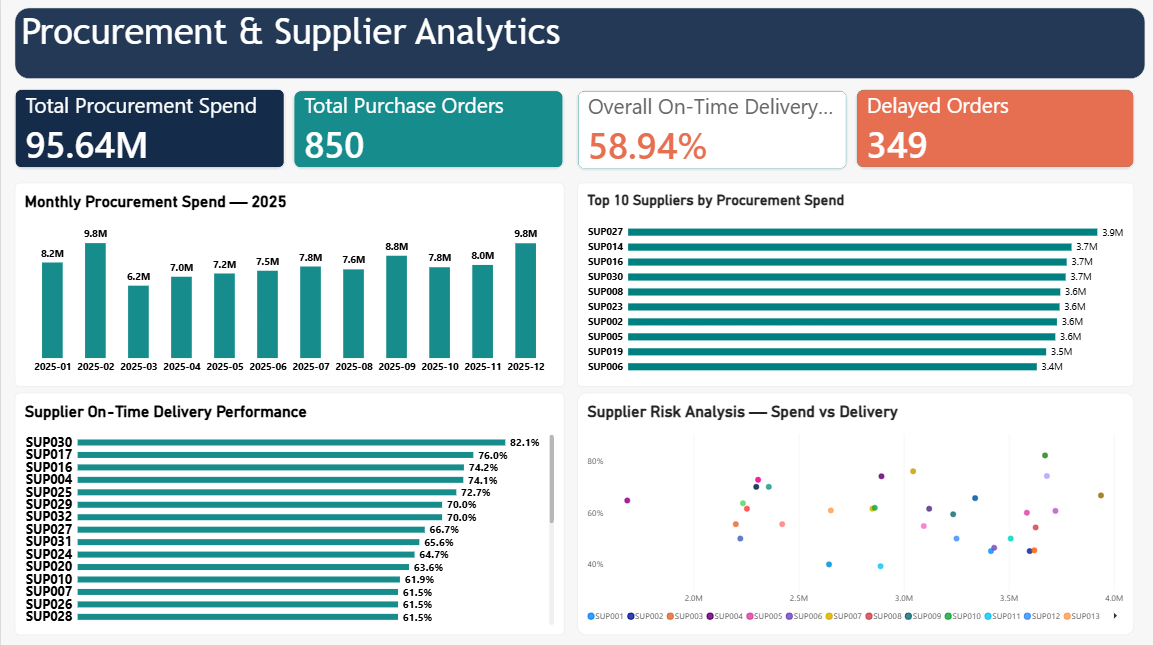

Layout of this report page (visuals, bound fields, positions):
{"tool":"powerbi","page":{"name":"Procurement & Supplier Analytics","canvas":[1920,1080],"ordinal":2},"visuals":[{"type":"textbox","title":"Procurement & Supplier Analytics","box":[22,14,1884,118],"z":0},{"type":"cardVisual","fields":{"Data":["Measures (2).Total Procurement Spend"]},"box":[22,150,450,132],"z":1000},{"type":"cardVisual","fields":{"Data":["Measures (2).Total Purchase Orders"]},"box":[488,152,450,130],"z":2000},{"type":"cardVisual","fields":{"Data":["Measures (2).On-Time Delivery Rate %"]},"box":[960,152,450,132],"z":3000},{"type":"cardVisual","fields":{"Data":["Measures (2).Delayed Orders"]},"box":[1424,150,464,132],"z":4000},{"type":"clusteredColumnChart","title":"Monthly Procurement Spend — 2025","fields":{"Category":["vw_Procurement_Monthly.OrderMonth"],"Y":["Sum(vw_Procurement_Monthly.TotalSpendINR)"]},"box":[22,306,916,340],"z":5000},{"type":"clusteredBarChart","title":"Top 10 Suppliers by Procurement Spend","fields":{"Category":["vw_Procurement_Supplier.SupplierID"],"Y":["Sum(vw_Procurement_Supplier.TotalSpendINR)"]},"box":[960,306,928,340],"z":6000},{"type":"clusteredBarChart","title":"Supplier On-Time Delivery Performance","fields":{"Category":["vw_Procurement_Supplier.SupplierID"],"Y":["Measures (2).Supplier On-Time Delivery %"]},"box":[22,656,916,404],"z":6002},{"type":"scatterChart","title":"Supplier Risk Analysis — Spend vs Delivery","fields":{"Series":["vw_Procurement_Supplier.SupplierID"],"X":["vw_Procurement_Supplier.TotalSpendINR"],"Y":["Measures (2).Supplier On-Time Delivery %"]},"box":[960,656,928,404],"z":6003}]}

Visuals, with their boxes in screenshot pixels (x1, y1, x2, y2), scaled from the page's 1920x1080 canvas onto the 1153x645 screenshot:
"Procurement & Supplier Analytics" textbox: {"x1": 13, "y1": 8, "x2": 1145, "y2": 79}
cardVisual - Measures (2).Total Procurement Spend: {"x1": 13, "y1": 90, "x2": 283, "y2": 168}
cardVisual - Measures (2).Total Purchase Orders: {"x1": 293, "y1": 91, "x2": 563, "y2": 168}
cardVisual - Measures (2).On-Time Delivery Rate %: {"x1": 576, "y1": 91, "x2": 847, "y2": 170}
cardVisual - Measures (2).Delayed Orders: {"x1": 855, "y1": 90, "x2": 1134, "y2": 168}
"Monthly Procurement Spend — 2025" clusteredColumnChart: {"x1": 13, "y1": 183, "x2": 563, "y2": 386}
"Top 10 Suppliers by Procurement Spend" clusteredBarChart: {"x1": 576, "y1": 183, "x2": 1134, "y2": 386}
"Supplier On-Time Delivery Performance" clusteredBarChart: {"x1": 13, "y1": 392, "x2": 563, "y2": 633}
"Supplier Risk Analysis — Spend vs Delivery" scatterChart: {"x1": 576, "y1": 392, "x2": 1134, "y2": 633}
